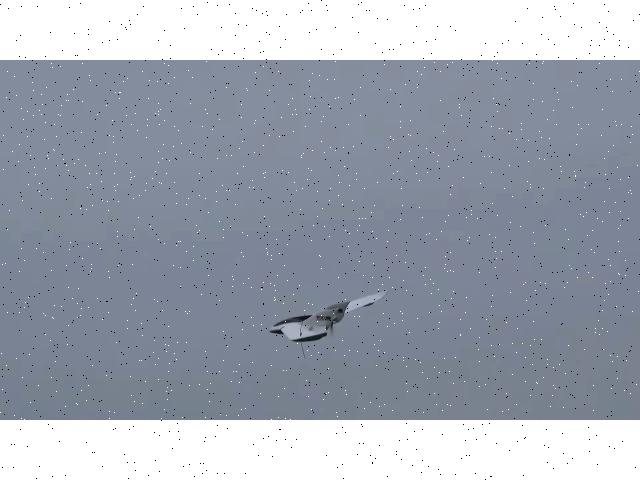Anti-Drone: (273, 289, 389, 341)
